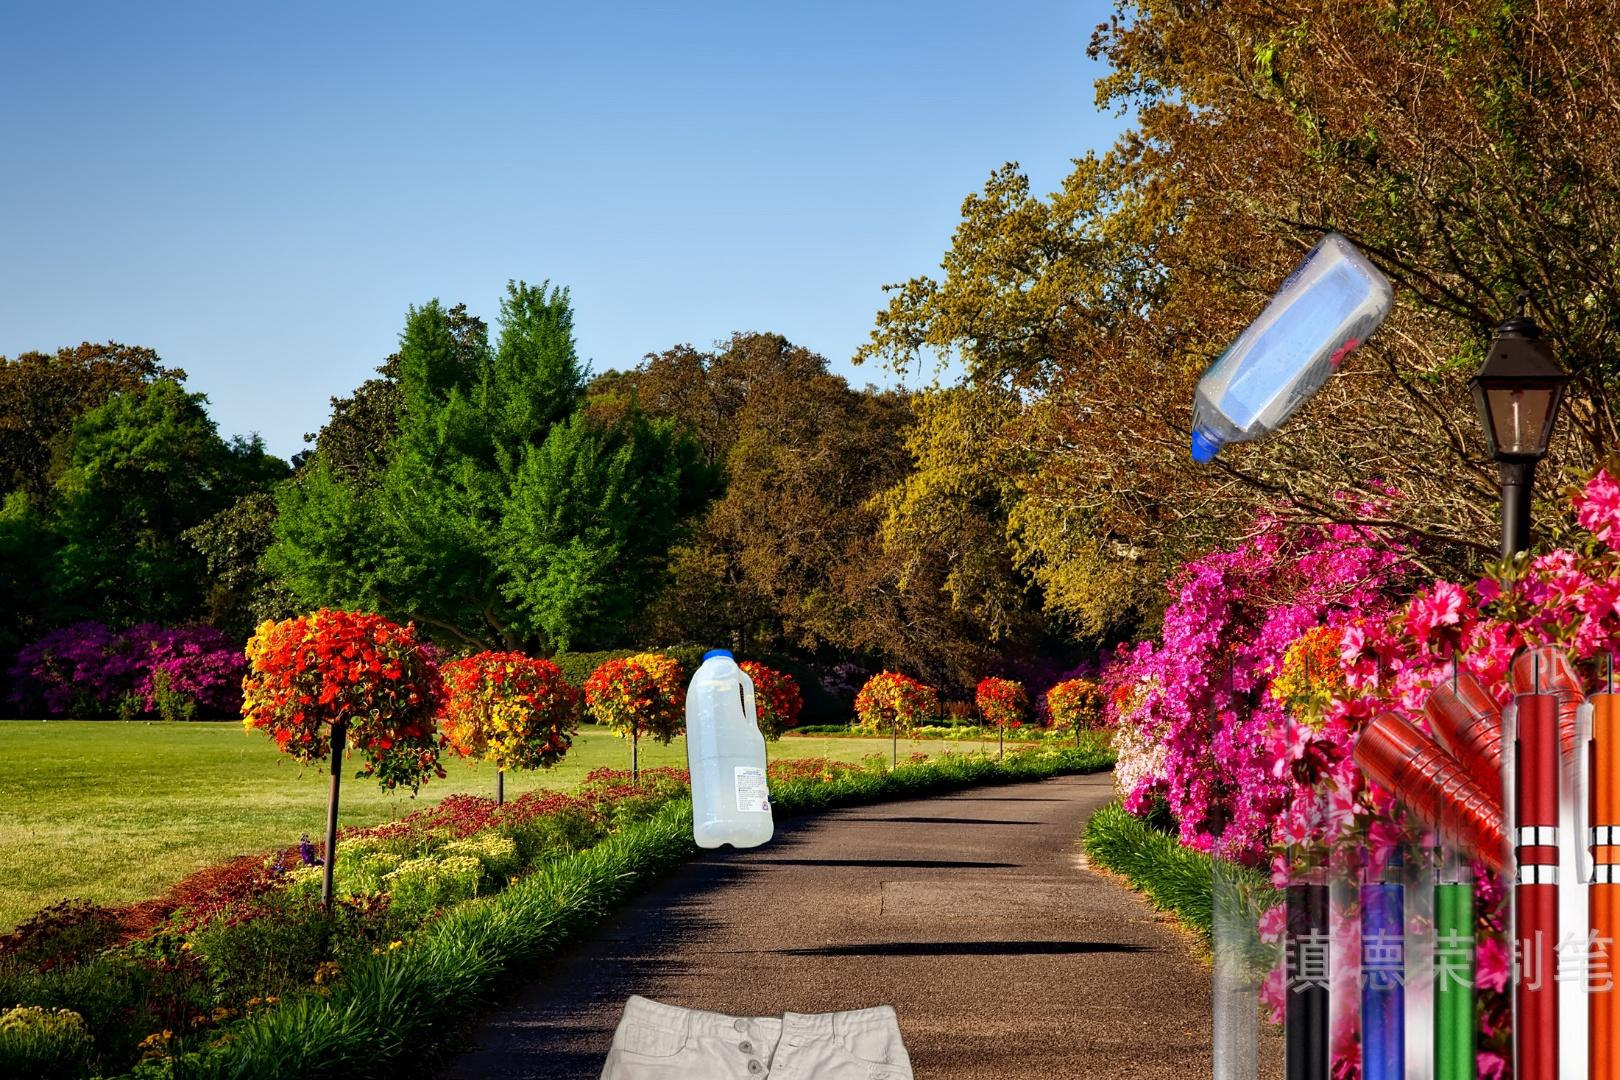clothes: (556, 990, 946, 1080)
paper-bag: (1607, 898, 1620, 1080)
penholder: (972, 265, 1620, 975), (1079, 620, 1620, 1080)
plastic-bottles: (1192, 152, 1620, 835), (681, 642, 779, 855)
